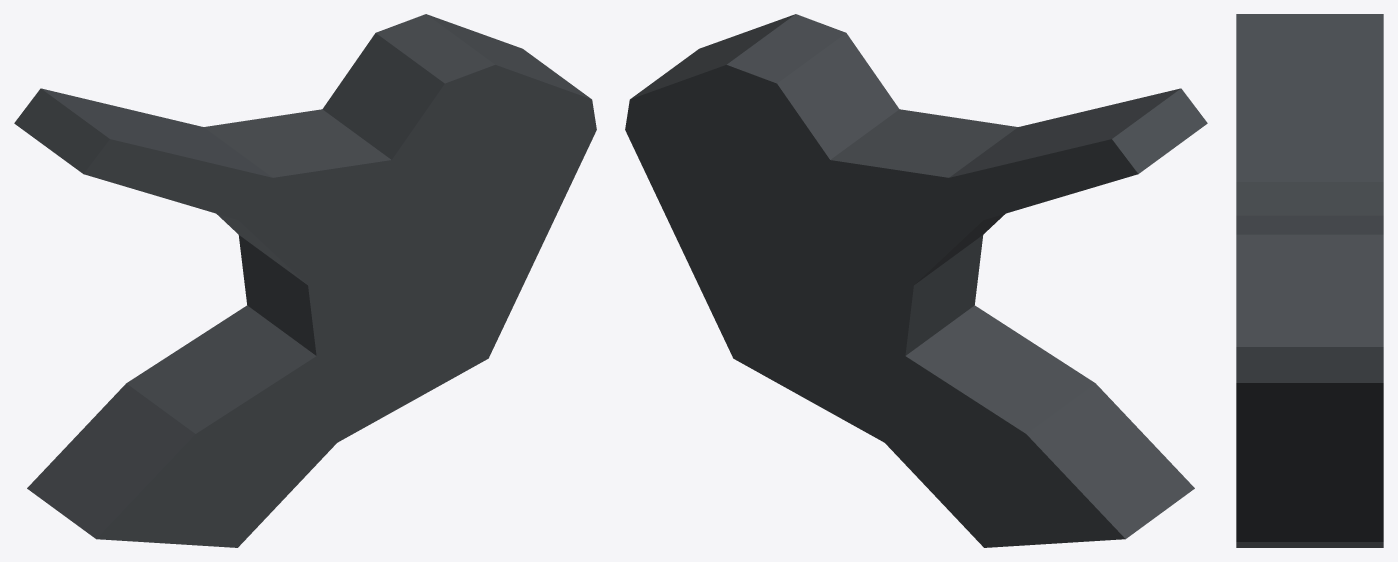
Rendered from Pistol5_02_4.fbx.
3 renders of one model, left to right at view 1: azimuth 30°, elevation 25°; view 2: azimuth 150°, elevation 25°; view 3: azimuth 270°, elevation 25°, orthographic. The views are drawn at different scales.
Visible parts, largest first — view 1: Pistol5_02_4; view 2: Pistol5_02_4; view 3: Pistol5_02_4.
Boxes of the visible parts, x1,y1,x2,y2 form: Pistol5_02_4: [14, 14, 596, 547]; Pistol5_02_4: [625, 14, 1207, 547]; Pistol5_02_4: [1236, 14, 1383, 547].
Size of the model in its own units: 0.0403 by 0.033 by 0.00942.
